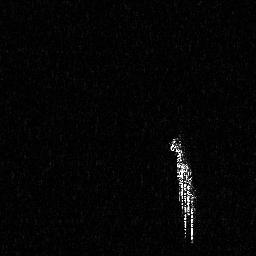ship: (169, 134, 198, 247)
